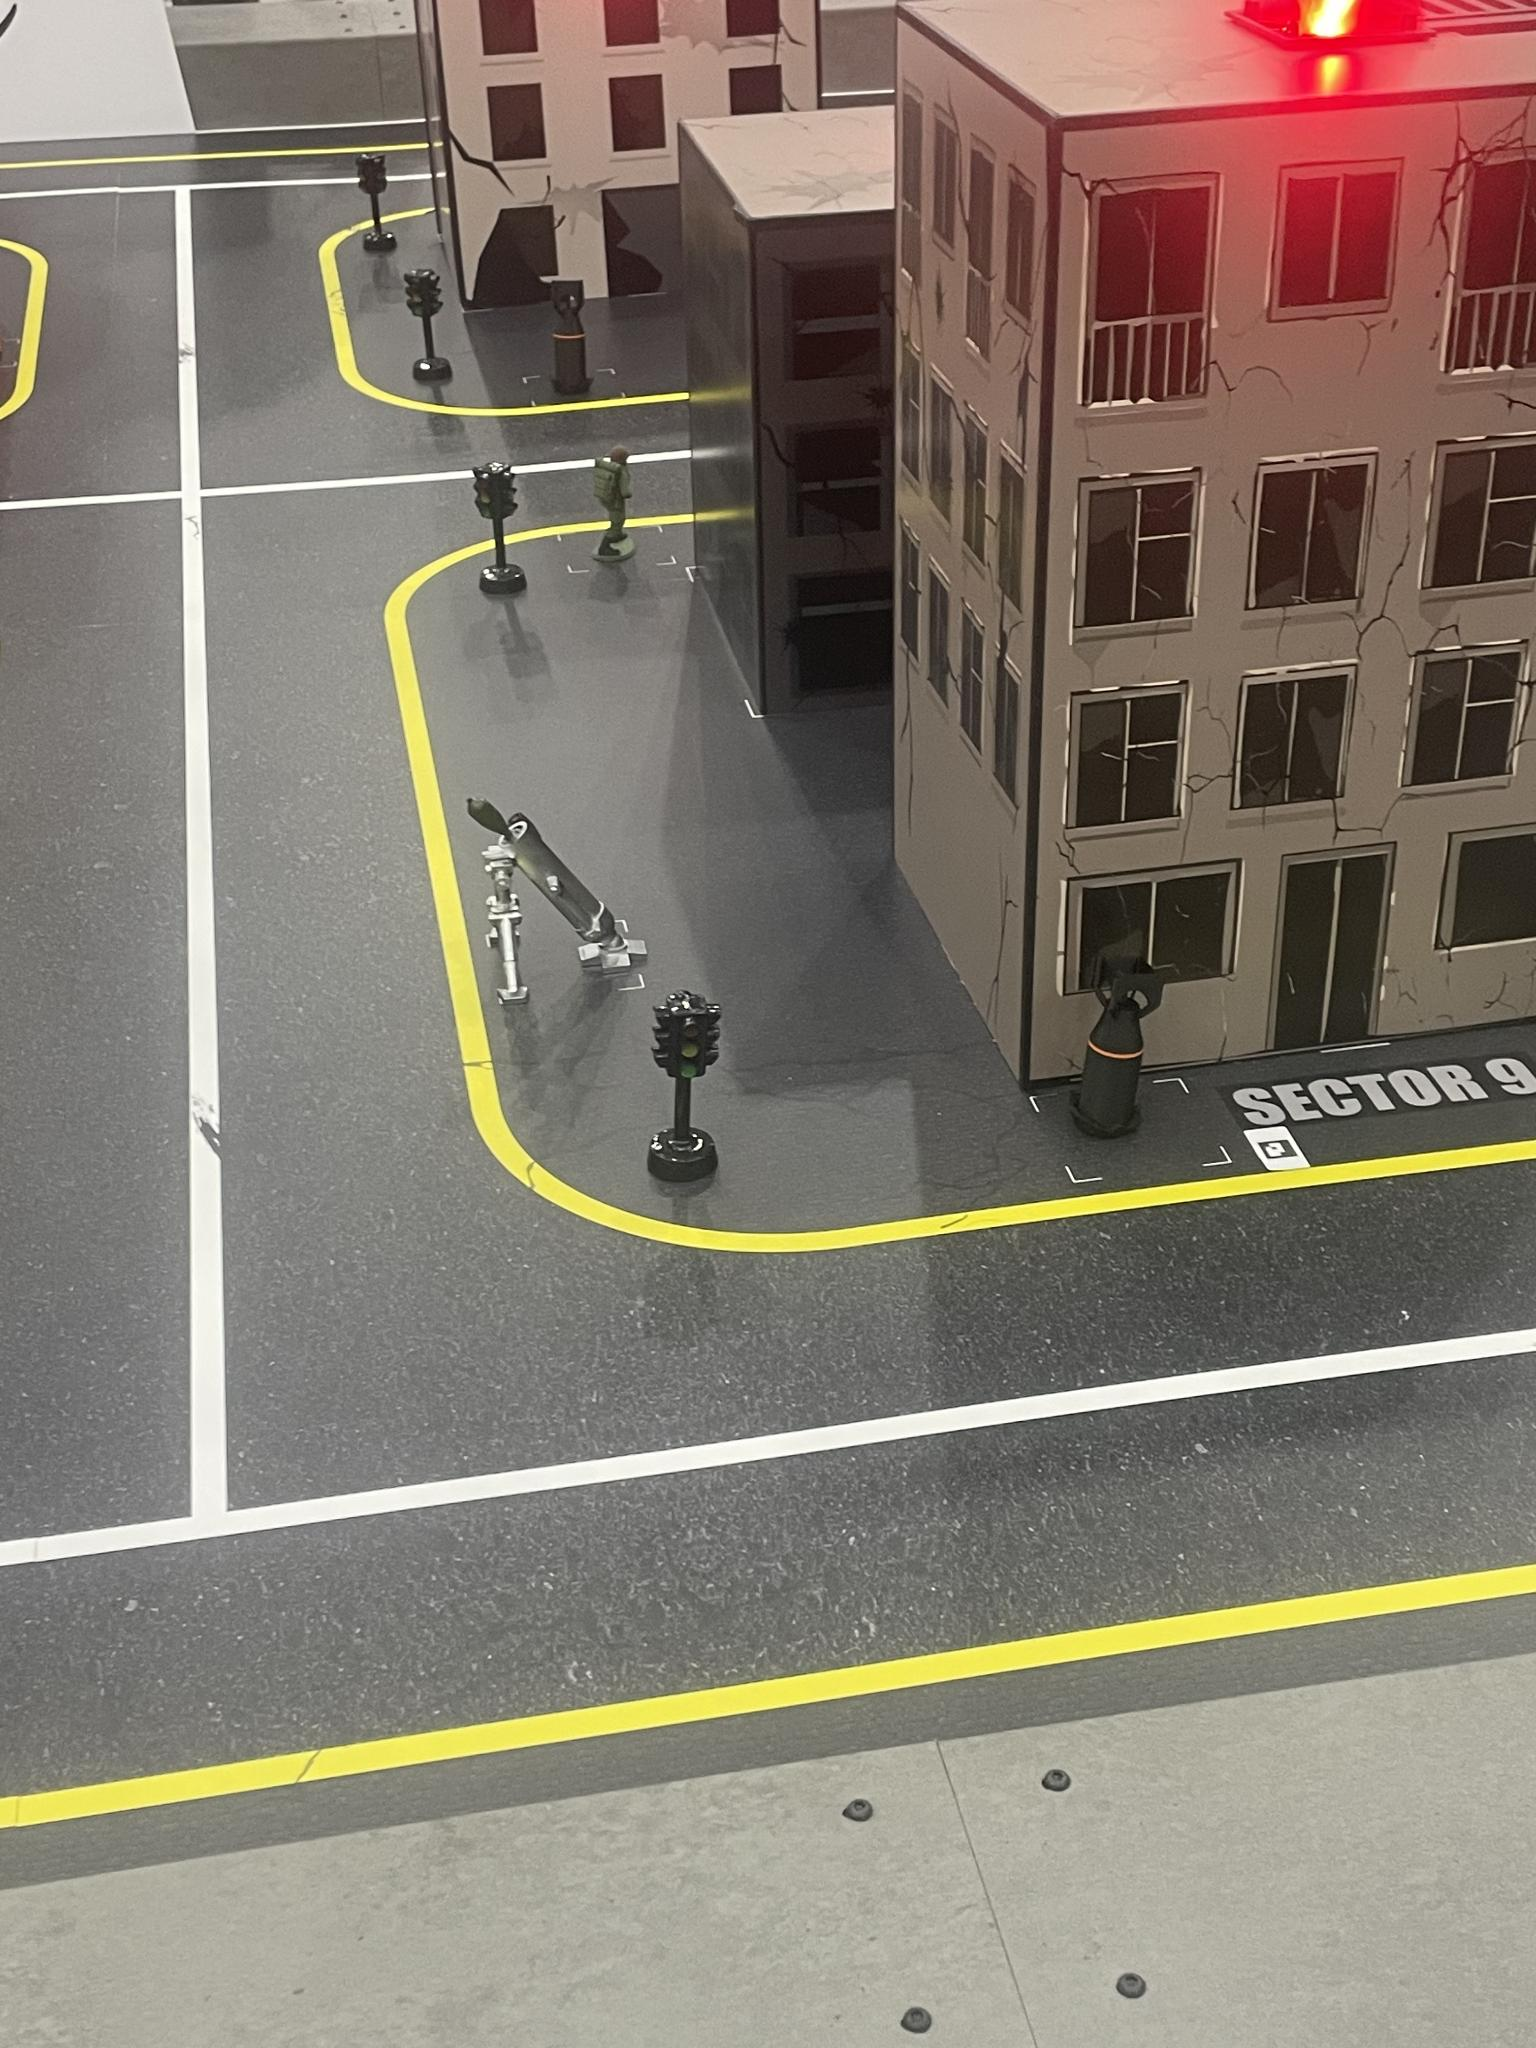Enemy: (592, 445, 637, 569)
Missile: (1071, 955, 1165, 1130), (549, 284, 589, 397)
Mortar: (461, 787, 647, 1006)
